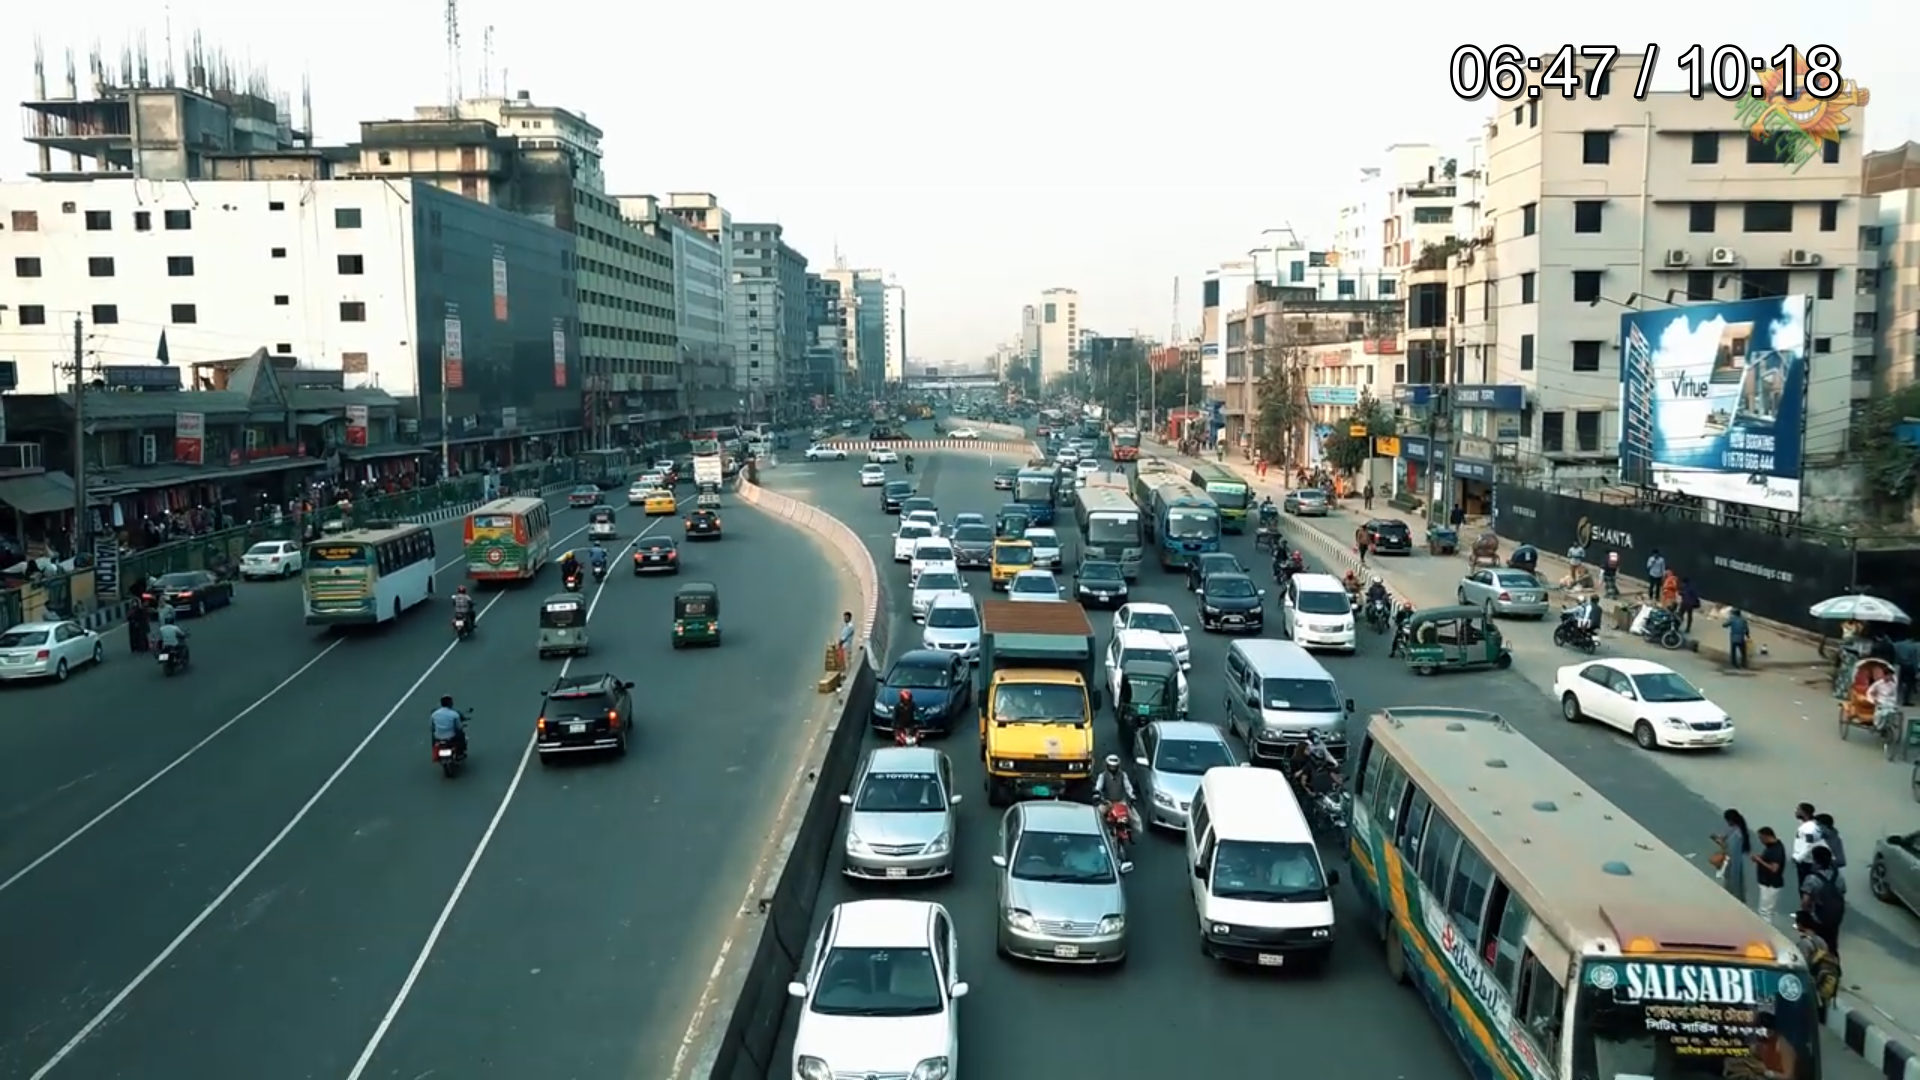LightVehicle: (1178, 766, 1353, 992)
MotorCycle: (419, 695, 477, 783)
